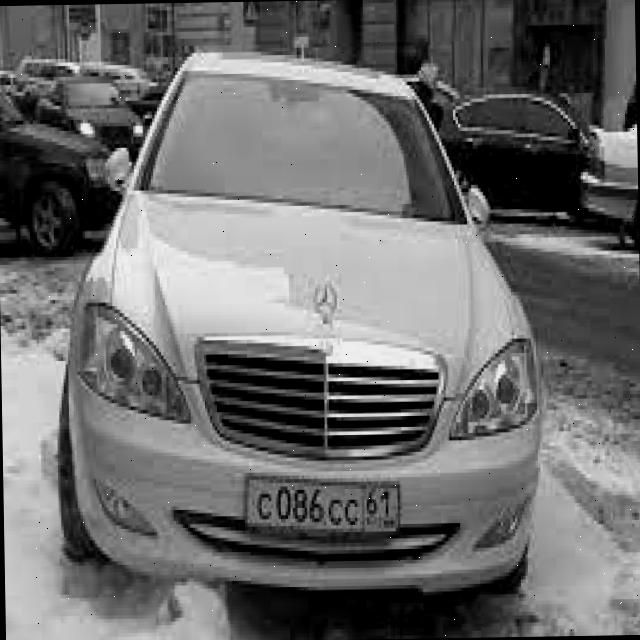number-plates: (242, 467, 402, 544)
